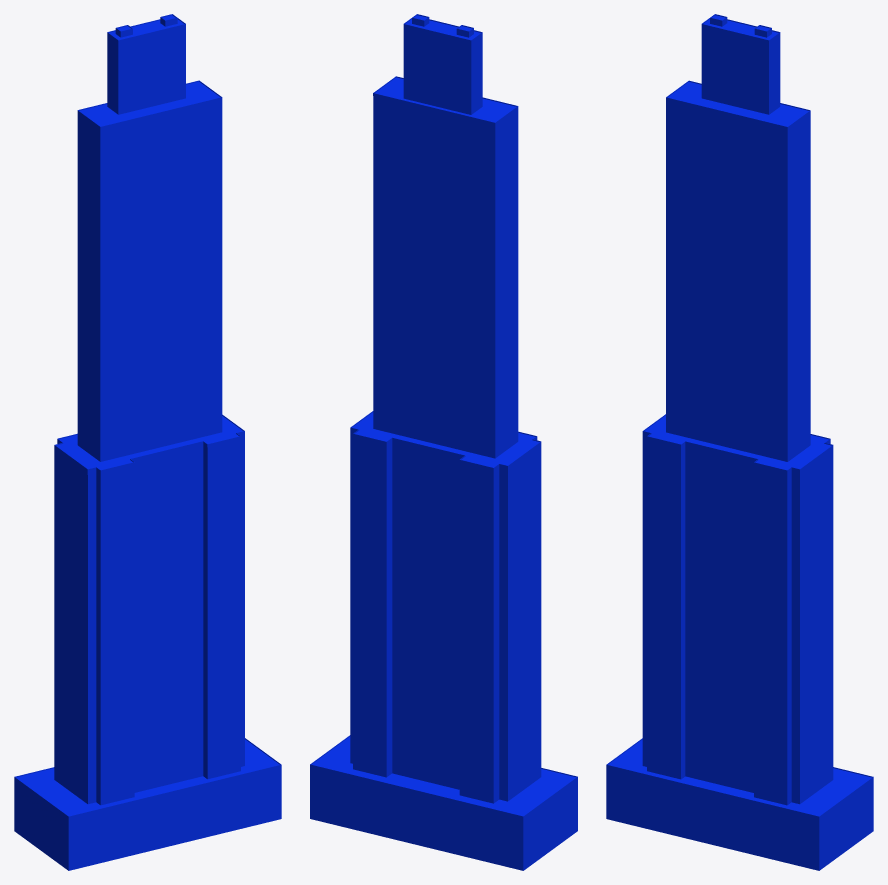
Rendered from Building_04_1.FBX.
The picture shows the model from 3 angles, left to right: view 1: azimuth 30°, elevation 25°; view 2: azimuth 150°, elevation 25°; view 3: azimuth 330°, elevation 25°; orthographic projection.
Parts seen in each view (by area): view 1: Building_04_1; view 2: Building_04_1; view 3: Building_04_1.
Part boxes in pixels (bbox=[...]): Building_04_1: bbox=[14, 14, 281, 870]; Building_04_1: bbox=[310, 14, 577, 870]; Building_04_1: bbox=[606, 14, 873, 870].
Size of the model in its own units: 126696 by 455686 by 56003.
